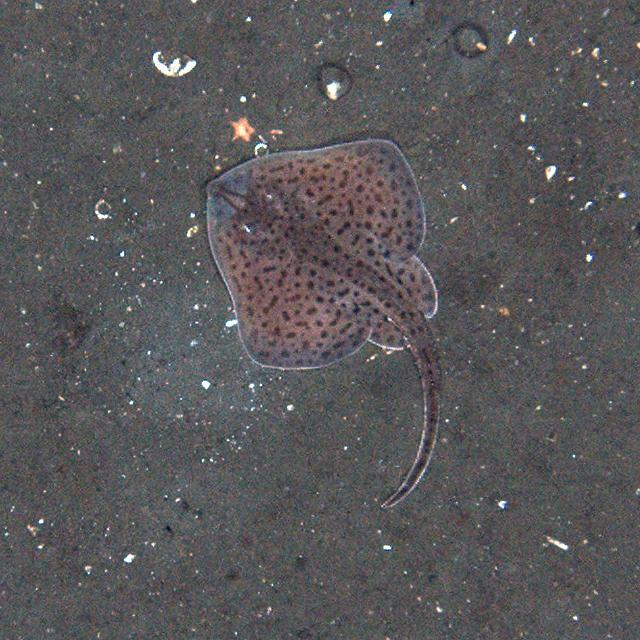skate: (198, 138, 446, 514)
